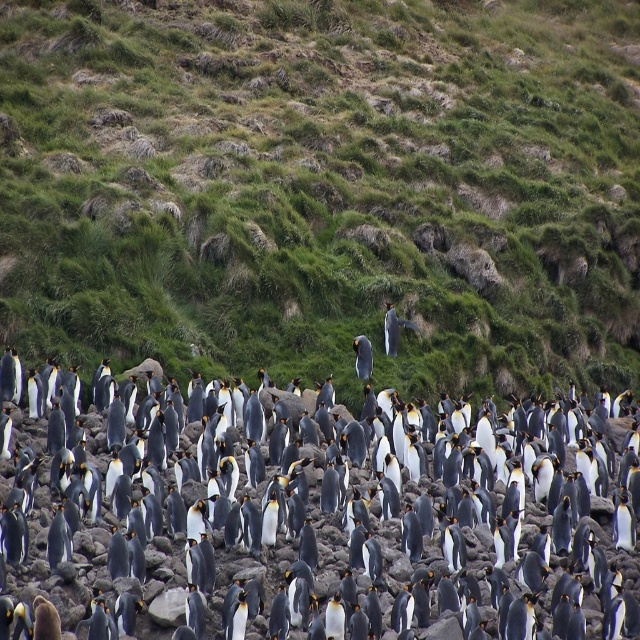Penguin: (0, 342, 640, 639), (0, 443, 43, 565), (277, 555, 313, 638), (286, 456, 320, 513), (43, 499, 73, 563), (515, 546, 549, 602), (611, 493, 639, 560), (238, 488, 264, 558), (103, 519, 129, 585), (550, 558, 578, 619), (399, 501, 424, 567), (551, 595, 588, 639), (142, 405, 167, 470), (441, 515, 466, 580), (241, 388, 267, 450), (78, 461, 102, 528), (582, 530, 607, 594), (467, 444, 494, 502), (216, 577, 248, 625), (138, 481, 164, 540), (196, 411, 217, 484), (320, 587, 350, 638), (114, 587, 142, 639), (57, 382, 78, 450), (341, 417, 370, 465), (442, 443, 464, 506), (595, 558, 622, 609), (392, 578, 417, 633), (106, 396, 128, 458), (432, 569, 461, 616), (502, 479, 527, 533), (31, 596, 62, 639), (64, 479, 91, 528), (505, 590, 532, 639), (184, 579, 207, 636), (374, 470, 398, 524), (105, 449, 129, 502), (412, 572, 436, 625), (350, 333, 374, 385), (531, 451, 557, 499), (223, 497, 246, 551), (136, 391, 164, 435), (561, 402, 589, 446), (474, 409, 498, 460), (571, 520, 595, 571), (603, 587, 627, 638), (491, 514, 512, 572), (0, 338, 19, 402), (317, 462, 340, 514), (126, 497, 148, 551), (260, 496, 282, 550), (348, 516, 369, 572), (552, 494, 573, 550), (62, 365, 82, 423), (161, 398, 181, 456), (216, 376, 238, 428), (164, 382, 185, 436), (430, 432, 453, 481), (343, 493, 368, 538), (47, 399, 66, 458), (405, 431, 425, 487), (494, 583, 514, 639), (183, 538, 206, 586), (25, 366, 45, 421), (415, 488, 433, 548), (624, 455, 640, 522), (201, 532, 216, 603), (267, 417, 290, 462), (113, 467, 134, 516), (186, 499, 207, 548), (289, 485, 308, 539), (207, 487, 232, 528), (359, 585, 381, 631), (456, 493, 478, 539), (526, 399, 548, 445), (240, 575, 264, 617), (494, 430, 513, 483), (122, 373, 140, 428), (372, 432, 395, 475), (121, 443, 145, 484), (574, 437, 593, 488), (92, 358, 112, 406), (174, 447, 192, 500), (392, 402, 409, 458), (0, 593, 21, 638), (96, 372, 119, 413), (264, 471, 285, 515), (314, 372, 336, 413), (6, 603, 31, 639), (42, 359, 58, 415), (384, 300, 399, 359), (226, 594, 247, 635), (502, 395, 523, 436), (144, 463, 166, 502), (548, 404, 567, 449), (622, 418, 640, 465), (87, 599, 108, 639), (188, 381, 206, 427), (312, 408, 331, 451), (471, 477, 490, 520), (593, 458, 612, 501), (345, 605, 369, 639), (375, 390, 402, 420), (337, 569, 358, 607), (300, 413, 322, 449), (385, 453, 405, 492), (463, 593, 481, 636), (234, 377, 248, 431), (451, 403, 468, 444), (0, 403, 12, 460), (271, 389, 290, 425), (360, 385, 377, 425), (420, 401, 437, 441), (360, 538, 377, 577), (14, 343, 24, 409), (406, 398, 420, 444), (521, 437, 534, 484), (595, 396, 608, 432), (145, 371, 160, 402), (161, 375, 178, 401), (570, 610, 585, 639), (206, 391, 221, 415), (440, 391, 452, 419)
